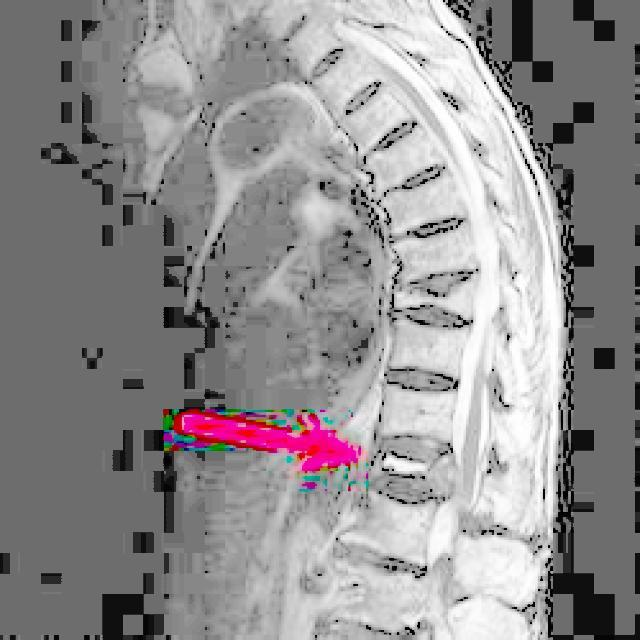Compression-Crush Fracutre: (351, 452, 461, 492)
